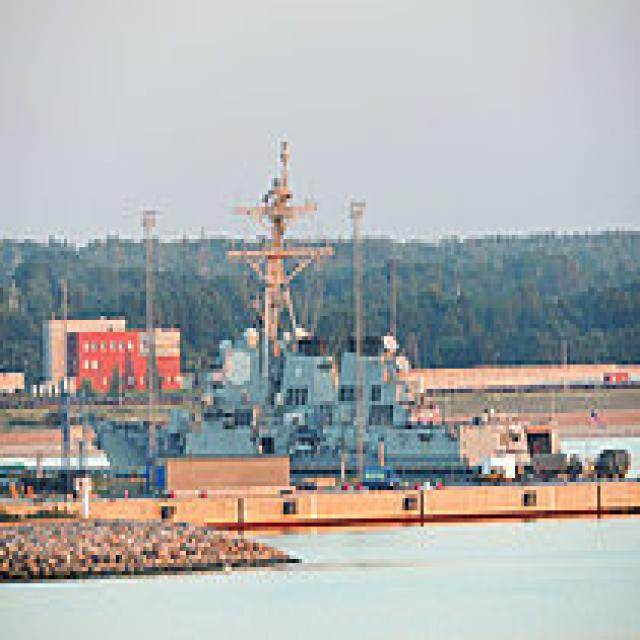Warship: (86, 134, 530, 474)
